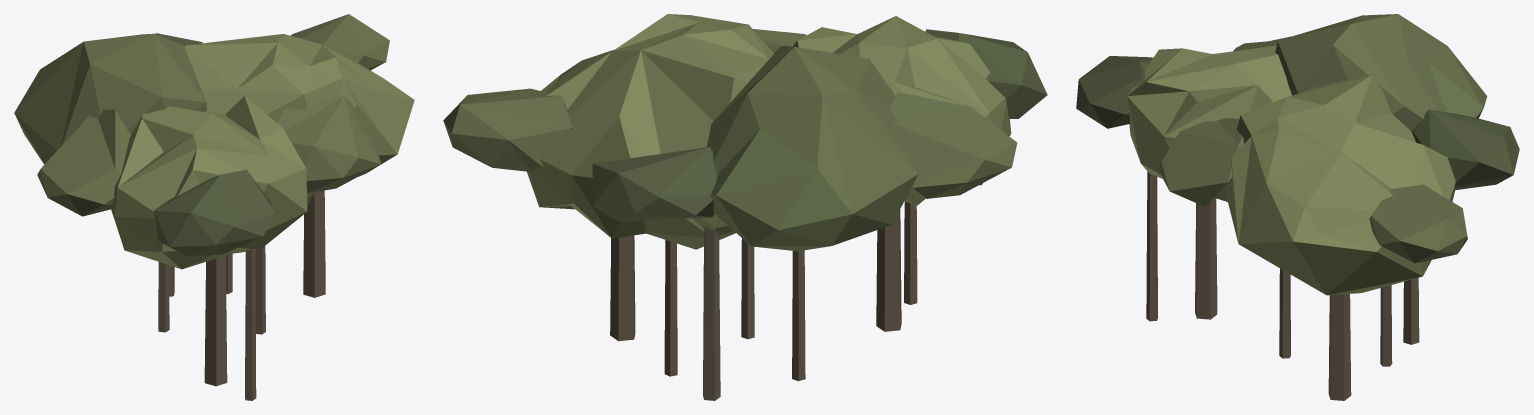
File: SM_Generic_Tree_Patch_01.glb
The picture shows the model from 3 angles, left to right: view 1: azimuth 30°, elevation 25°; view 2: azimuth 150°, elevation 25°; view 3: azimuth 270°, elevation 25°; orthographic projection. The views are drawn at different scales.
Visible parts, largest first — view 1: SM_Generic_Tree_Patch_01; view 2: SM_Generic_Tree_Patch_01; view 3: SM_Generic_Tree_Patch_01.
Part boxes in pixels (left/top/right/bottom): SM_Generic_Tree_Patch_01: left=14, top=14, right=414, bottom=400; SM_Generic_Tree_Patch_01: left=443, top=14, right=1047, bottom=400; SM_Generic_Tree_Patch_01: left=1076, top=14, right=1519, bottom=400.
Bounding box in the file's own units: 15.57 × 10.63 × 14.42.
Materials: 1 (1 with a texture image).
